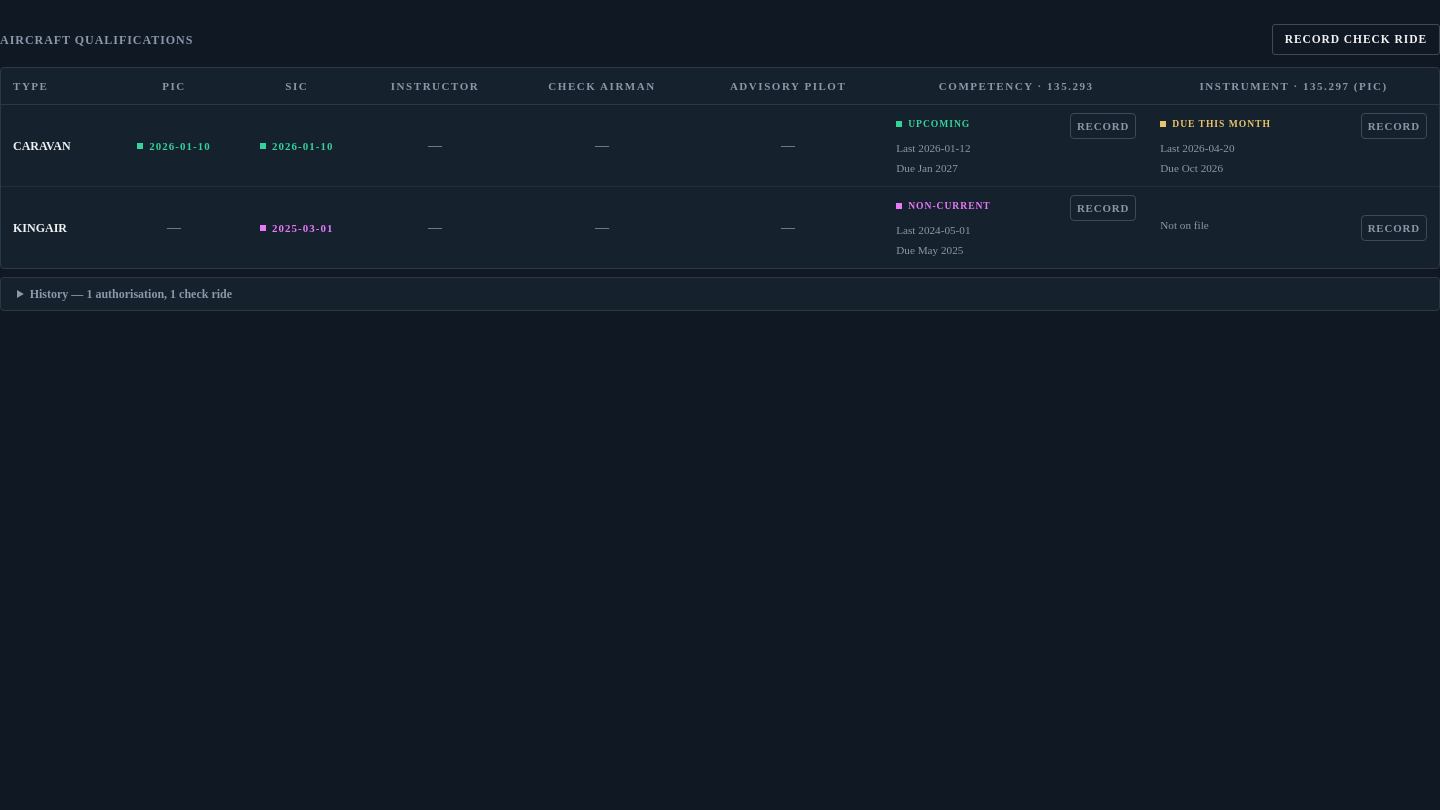
it: TypeQualificationsCard › will not record a check the company has no item for
Step 1. Click the button with aria-label "Record Instrument check (135.297) on CARAVAN" → (1394, 126), box [1361, 113, 1427, 139]
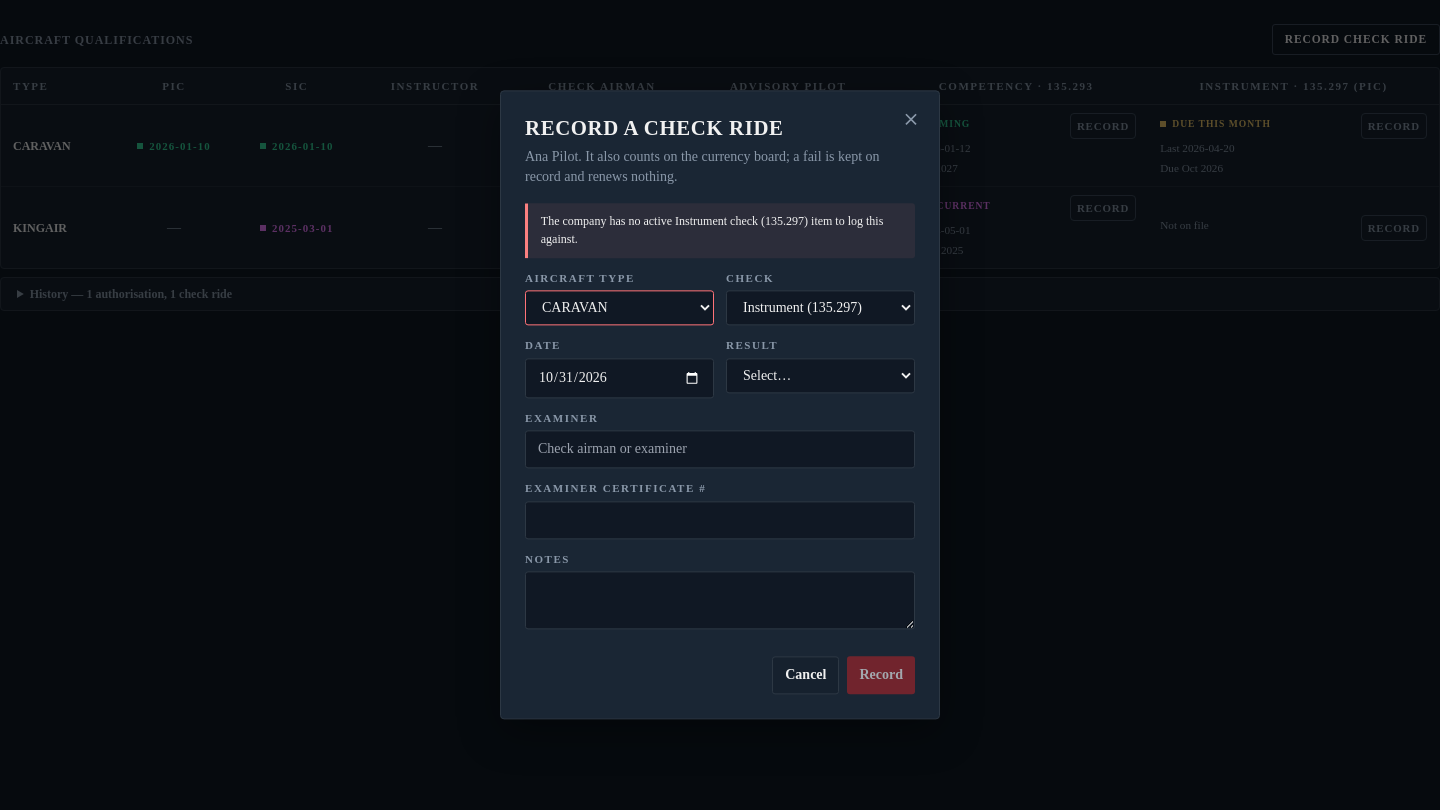
Check: the message shows "The company has no active Instrument check (135.297) item", box [541, 214, 883, 247]
Check: the button "Record" is disabled, box [848, 657, 915, 695]
